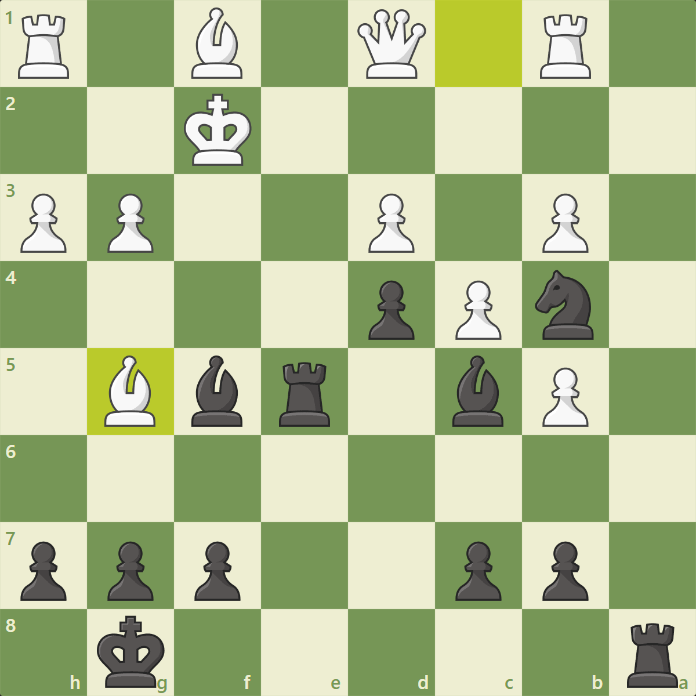B: (100, 353, 159, 430), (187, 6, 246, 82)
K: (181, 92, 254, 169)
P: (540, 365, 590, 430), (453, 277, 503, 342), (539, 191, 589, 256), (366, 191, 416, 256), (105, 190, 155, 255), (17, 190, 67, 255)
Q: (356, 8, 429, 83)
R: (15, 12, 71, 82), (537, 11, 593, 81)
b: (186, 353, 246, 430), (449, 354, 506, 430)
k: (93, 613, 167, 691)
n: (534, 269, 596, 343)
p: (16, 540, 69, 604), (103, 539, 156, 603), (190, 540, 243, 604), (451, 540, 504, 604), (539, 539, 592, 603), (365, 280, 418, 344)
r: (274, 360, 334, 430), (625, 620, 681, 692)
